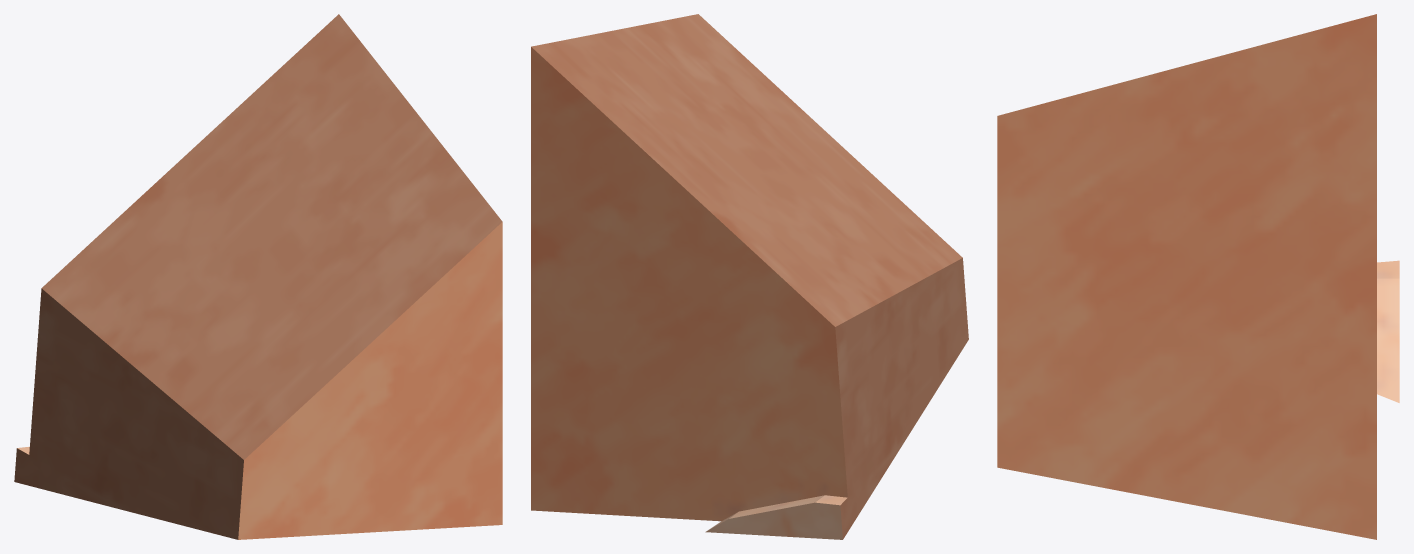
The model's file is towngate_s08.fbx.
The picture shows the model from 3 angles, left to right: view 1: azimuth 30°, elevation 25°; view 2: azimuth 150°, elevation 25°; view 3: azimuth 270°, elevation 25°; orthographic projection. The views are drawn at different scales.
Parts seen in each view (by area): view 1: towngate_s08; view 2: towngate_s08; view 3: towngate_s08.
Part boxes in pixels (x1,y1,x2,y2): towngate_s08: (14, 14, 502, 539); towngate_s08: (531, 14, 968, 539); towngate_s08: (997, 14, 1399, 539).
Size of the model in its own units: 3.33 by 4.59 by 3.18.
